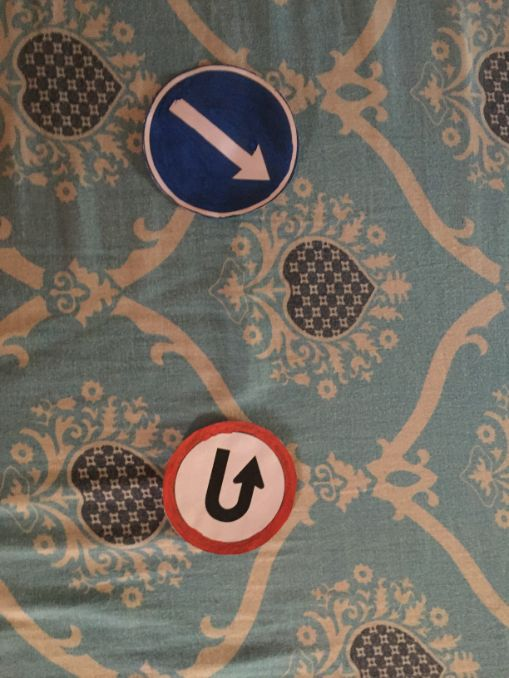go-stright: (144, 64, 299, 219)
u-turn: (162, 422, 294, 554)
